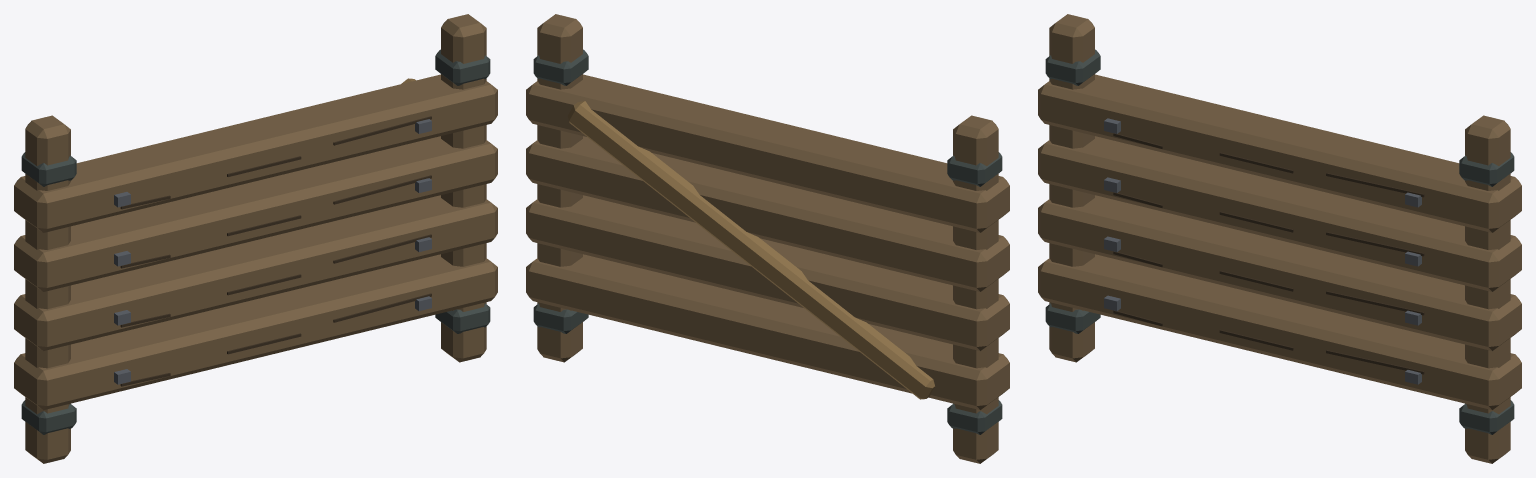
The model's file is pallet-up.glb.
The picture shows the model from 3 angles, left to right: view 1: azimuth 30°, elevation 25°; view 2: azimuth 150°, elevation 25°; view 3: azimuth 330°, elevation 25°; orthographic projection.
Parts seen in each view (by area): view 1: Pallet_pivot_Weathered_oak, Pallet_pivot_Pallet_iron, Pallet_pivot_Wood_grain, Pallet_pivot_surface; view 2: Pallet_pivot_Weathered_oak, Diagonal_brace, Pallet_pivot_Pallet_iron; view 3: Pallet_pivot_Weathered_oak, Pallet_pivot_Pallet_iron, Pallet_pivot_Wood_grain, Pallet_pivot_surface.
Part boxes in pixels (<box>): Pallet_pivot_Weathered_oak: <box>14,14,497,463</box>; Pallet_pivot_Pallet_iron: <box>21,49,490,434</box>; Pallet_pivot_Wood_grain: <box>120,116,431,386</box>; Pallet_pivot_surface: <box>114,119,431,384</box>; Pallet_pivot_Weathered_oak: <box>526,14,1009,463</box>; Diagonal_brace: <box>567,101,934,399</box>; Pallet_pivot_Pallet_iron: <box>533,49,1002,434</box>; Pallet_pivot_Weathered_oak: <box>1038,14,1521,463</box>; Pallet_pivot_Pallet_iron: <box>1045,49,1514,434</box>; Pallet_pivot_Wood_grain: <box>1113,133,1424,374</box>; Pallet_pivot_surface: <box>1104,118,1421,384</box>.
Size of the model in its own units: 2.45 by 1.7 by 0.365.
